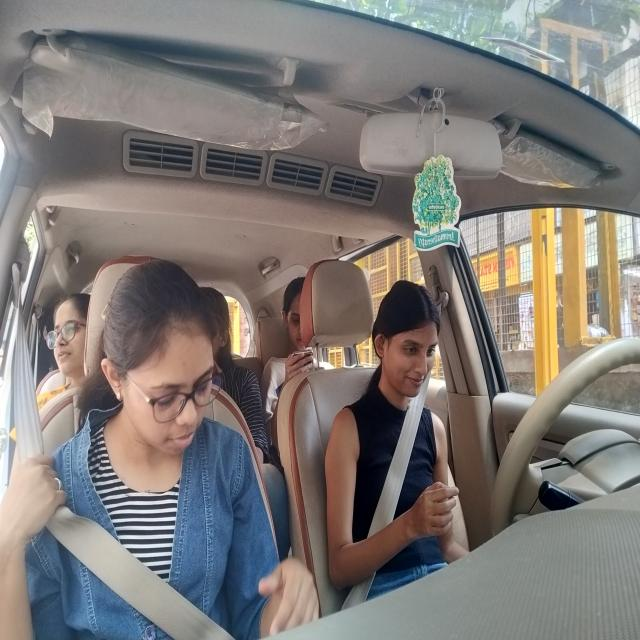person: (117, 274, 216, 442), (385, 296, 443, 401), (51, 296, 90, 370), (283, 286, 313, 378)
